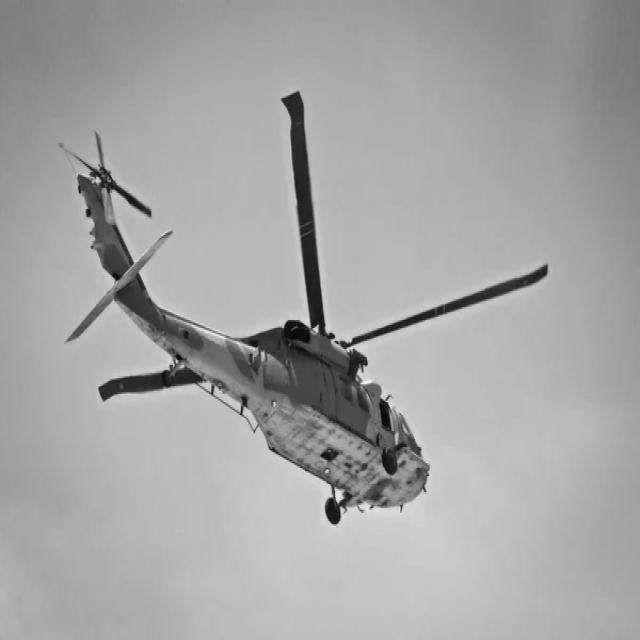Helicopter: (63, 92, 549, 525)
